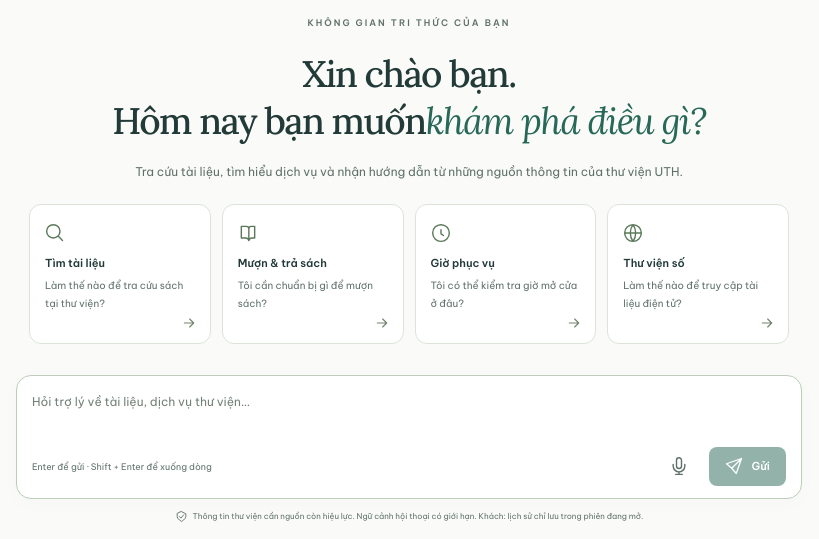
it: offers a digital-library starter that submits a library question
Click the button "Thư viện số Làm thế nào để truy cập tài liệu điện tử?". click: x=698, y=274
box: left=607, top=204, right=789, bottom=344
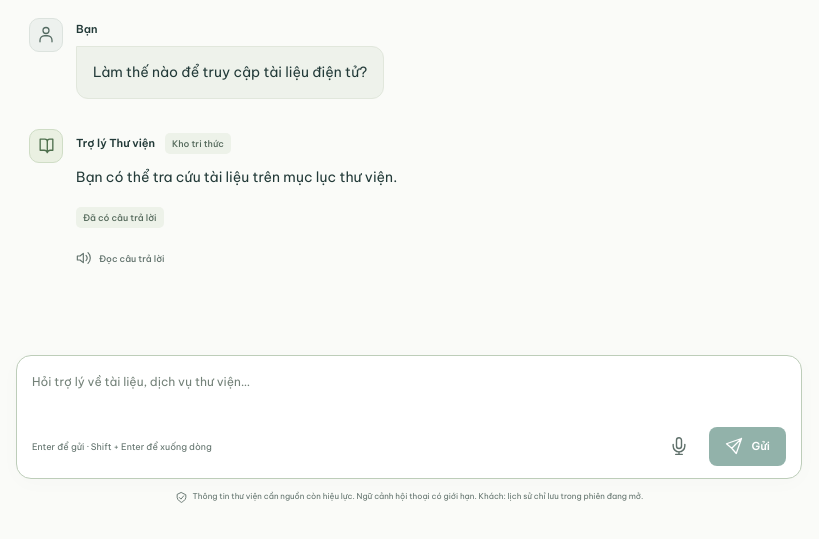
Check: the text "Bạn có thể tra cứu tài liệu trên mục lục thư viện." is shown, box left=76, top=168, right=397, bottom=186
